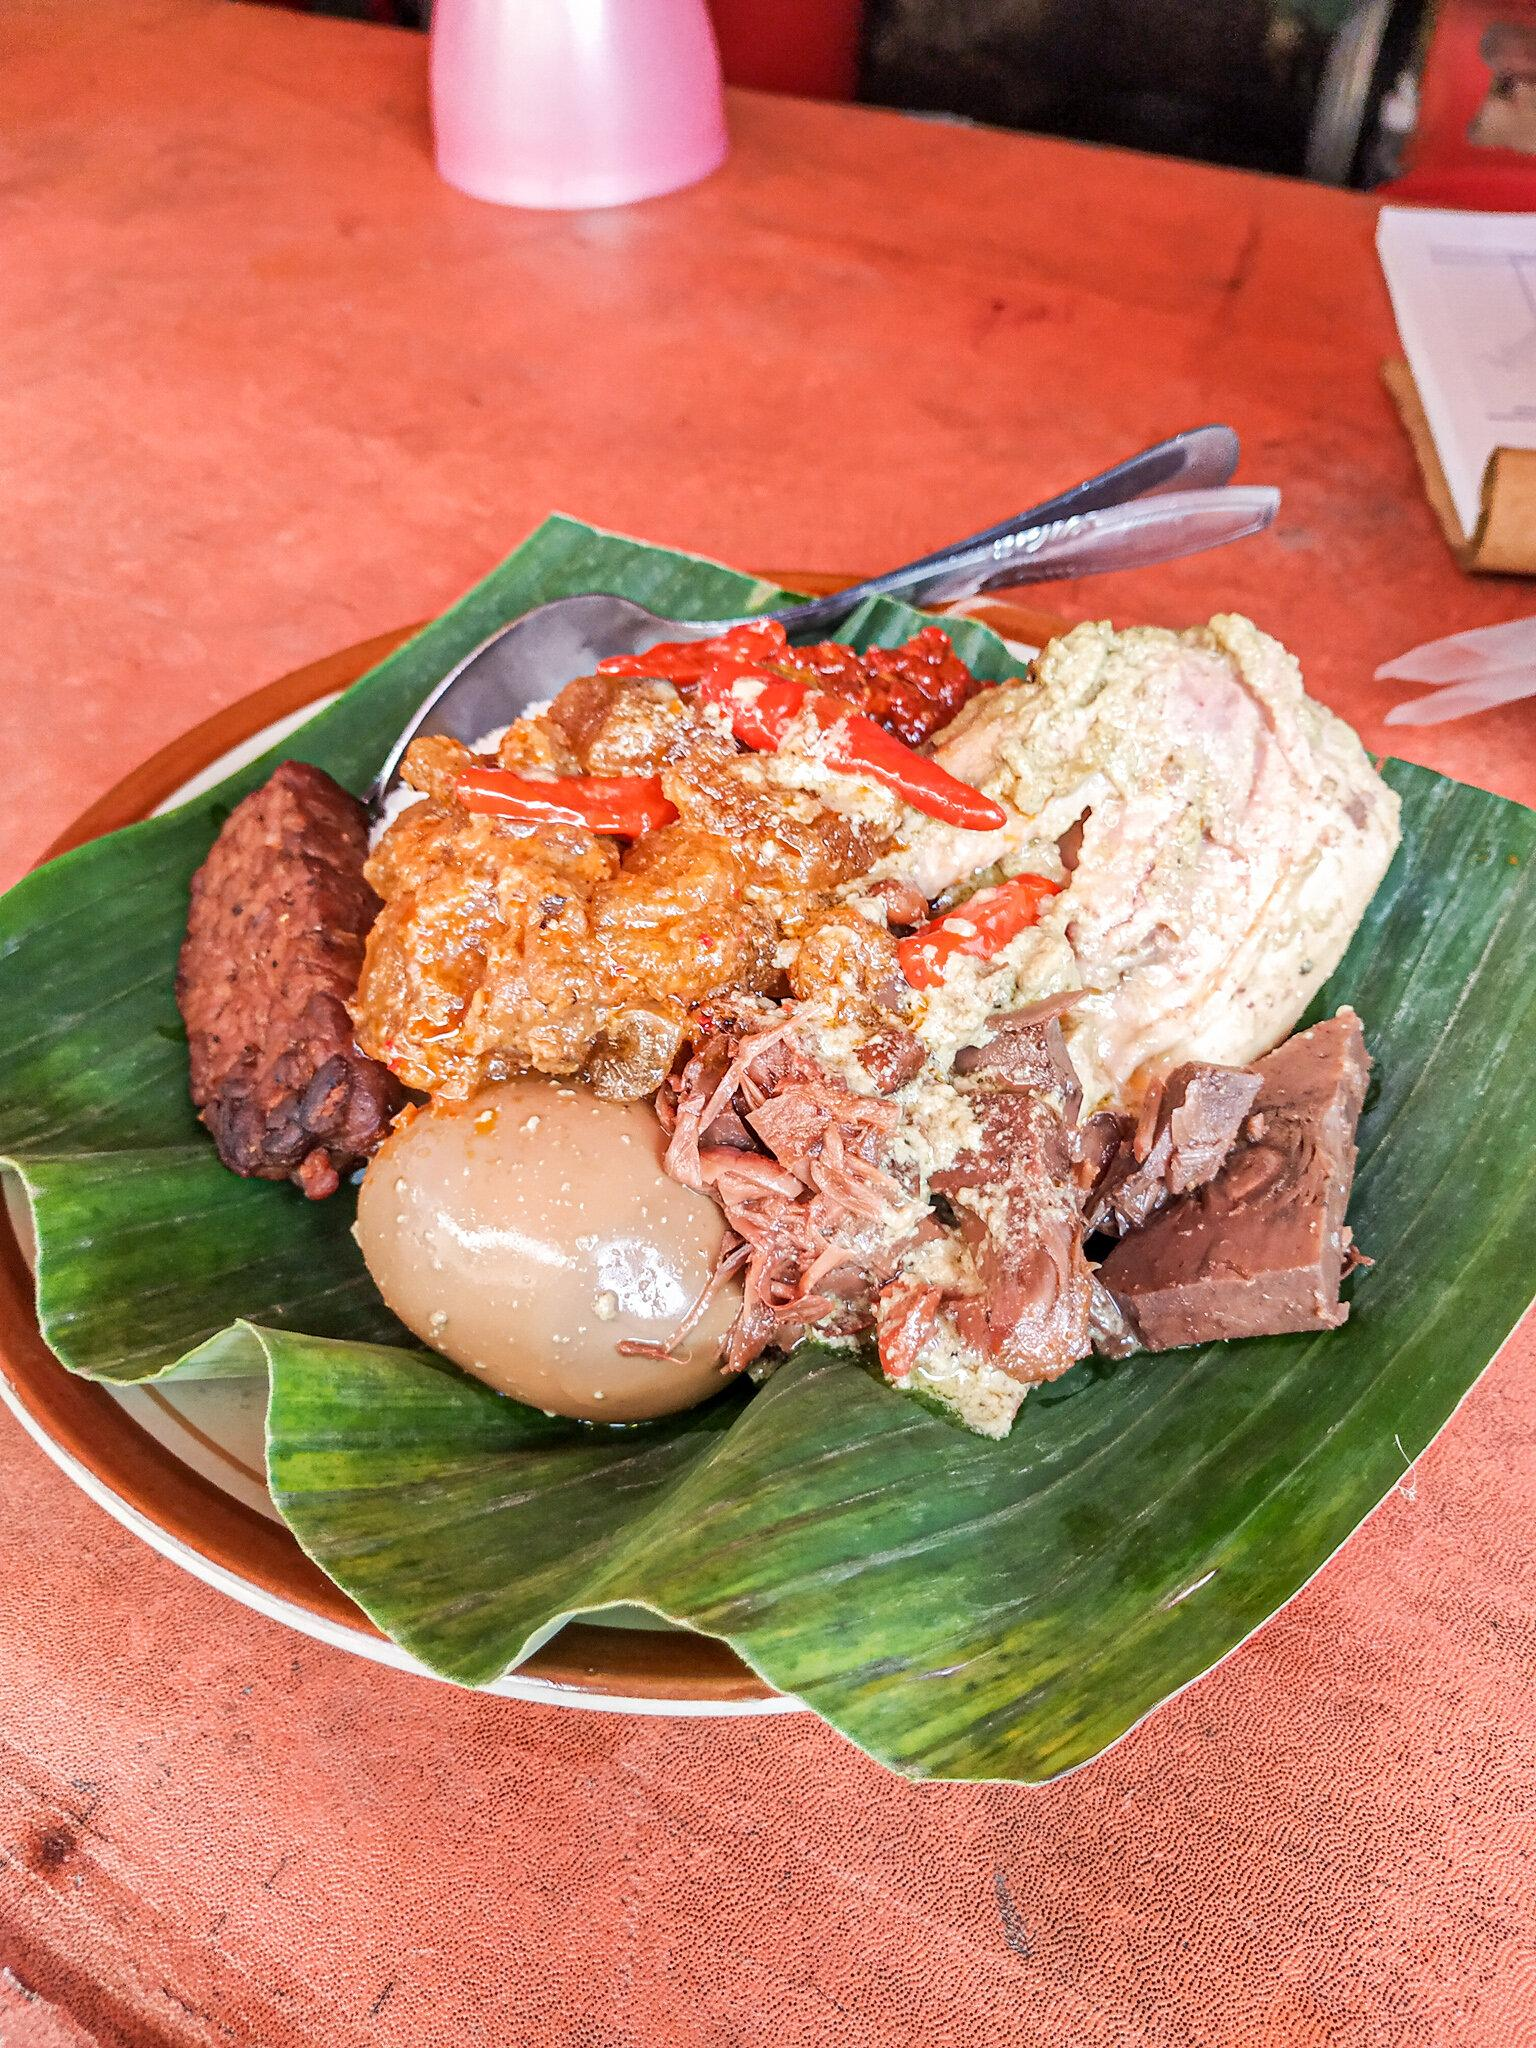gudeg: (176, 629, 1405, 1429)
